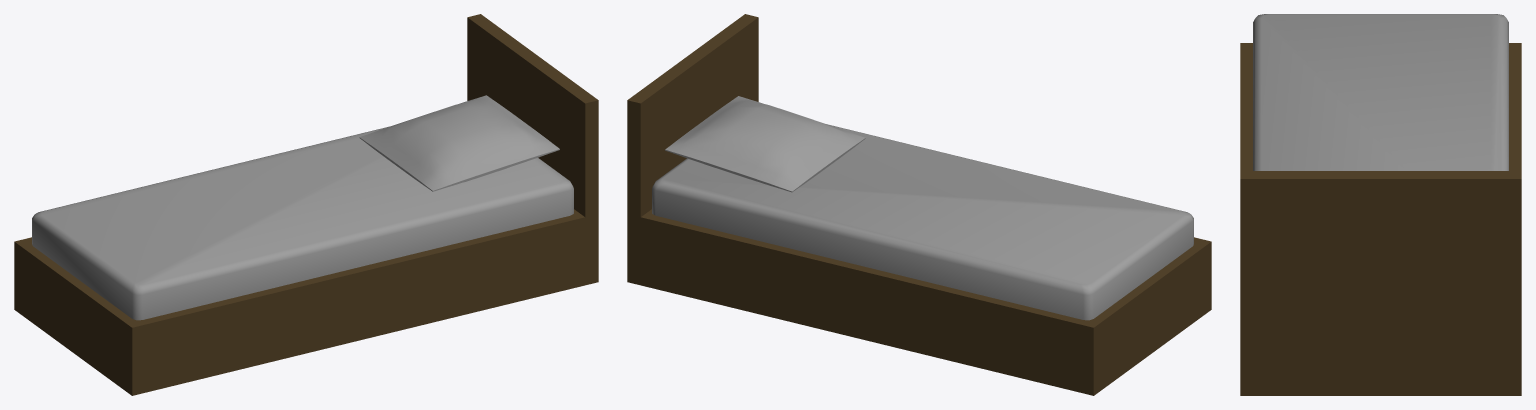
Rendered from Bed.fbx.
3 renders of one model, left to right at view 1: azimuth 30°, elevation 25°; view 2: azimuth 150°, elevation 25°; view 3: azimuth 270°, elevation 25°, orthographic. The views are drawn at different scales.
Visible parts, largest first — view 1: Cube.033; view 2: Cube.033; view 3: Cube.033.
Part boxes in pixels (left/top/right/bottom): Cube.033: left=14, top=14, right=598, bottom=395; Cube.033: left=627, top=14, right=1211, bottom=395; Cube.033: left=1240, top=14, right=1521, bottom=395.
Size of the model in its own units: 769 by 286 by 336.
